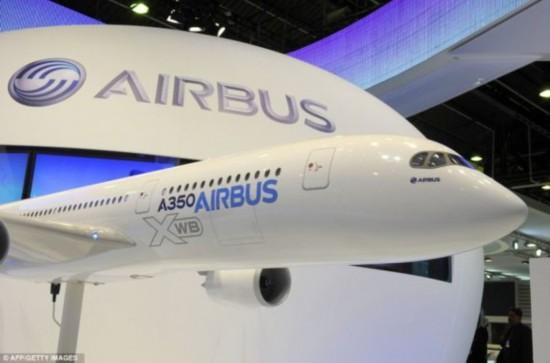airplane: (1, 120, 519, 310)
